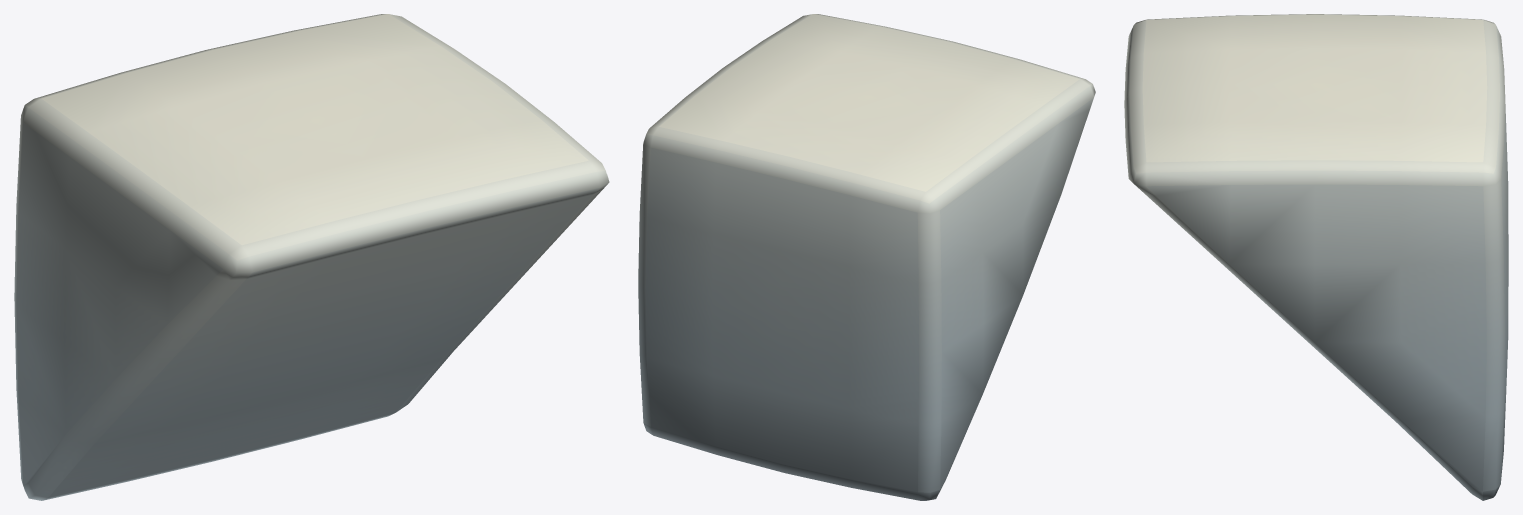
File: Quartz_Plain_SlopeUnder_Light.fbx
3 views of the same model, side by side, from view 1: azimuth 30°, elevation 25°; view 2: azimuth 150°, elevation 25°; view 3: azimuth 270°, elevation 25° (orthographic). The views are drawn at different scales.
Visible parts, largest first — view 1: Quartz_Plain_SlopeUnder_Light_LOD0; view 2: Quartz_Plain_SlopeUnder_Light_LOD0; view 3: Quartz_Plain_SlopeUnder_Light_LOD0.
Boxes of the visible parts, bbox=[...] form: Quartz_Plain_SlopeUnder_Light_LOD0: bbox=[14, 14, 609, 500]; Quartz_Plain_SlopeUnder_Light_LOD0: bbox=[638, 14, 1095, 500]; Quartz_Plain_SlopeUnder_Light_LOD0: bbox=[1124, 14, 1508, 500].
Size of what is drawn, in the model's own units: 1.09 by 1.08 by 1.08.
